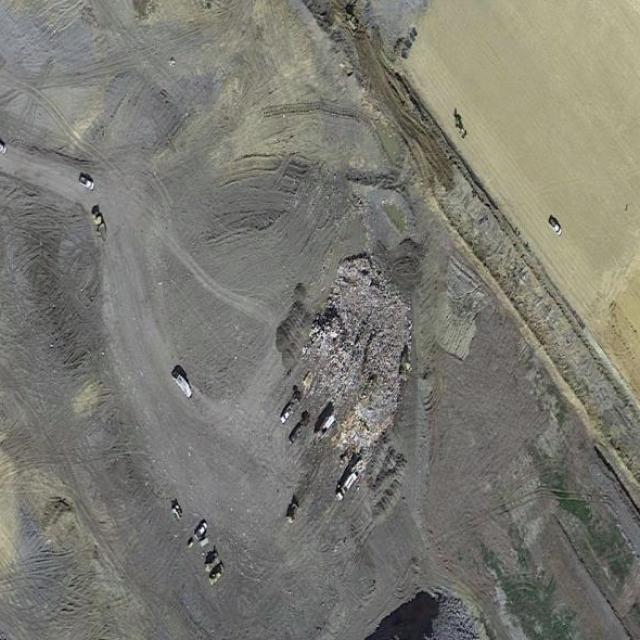dump_site: (281, 240, 433, 480)
